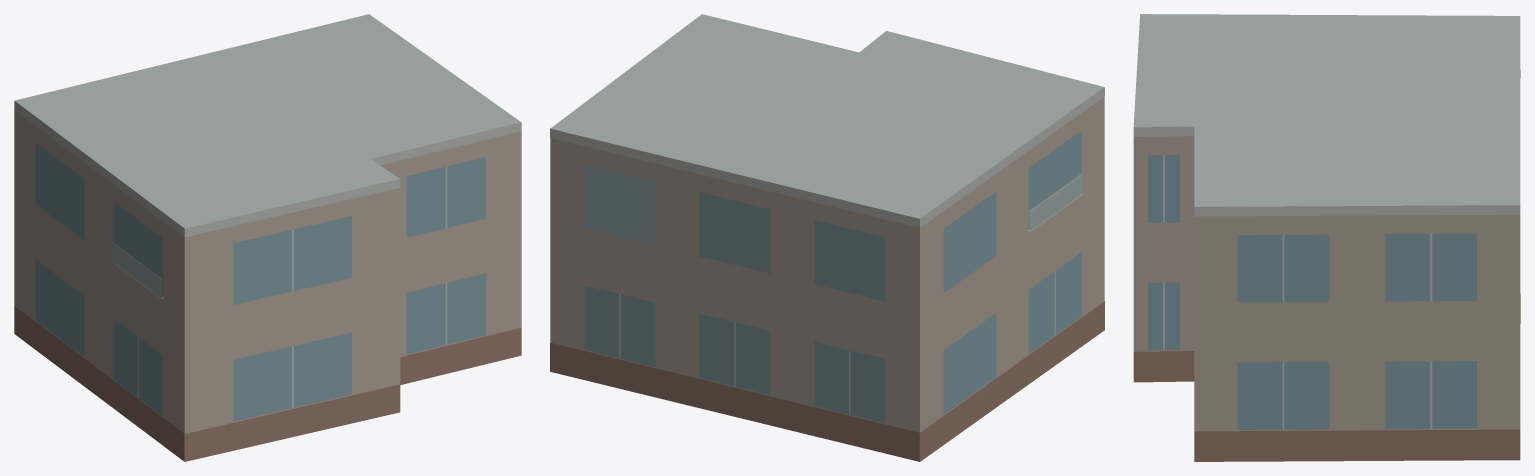
File: survey-upis-32604392.glb
The picture shows the model from 3 angles, left to right: view 1: azimuth 30°, elevation 25°; view 2: azimuth 150°, elevation 25°; view 3: azimuth 270°, elevation 25°; orthographic projection. The views are drawn at different scales.
Parts seen in each view (by area): view 1: survey-upis-32604392.tmp; view 2: survey-upis-32604392.tmp; view 3: survey-upis-32604392.tmp.
Part boxes in pixels (box(x1,y1,x2,y2)): survey-upis-32604392.tmp: box(14, 14, 521, 461); survey-upis-32604392.tmp: box(550, 14, 1104, 461); survey-upis-32604392.tmp: box(1133, 14, 1520, 461).
Bounding box in the file's own units: 10.58 × 6.5 × 8.95.
